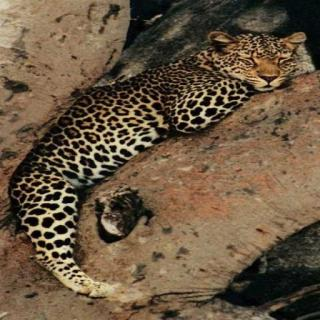Leopard: (42, 11, 320, 301)
